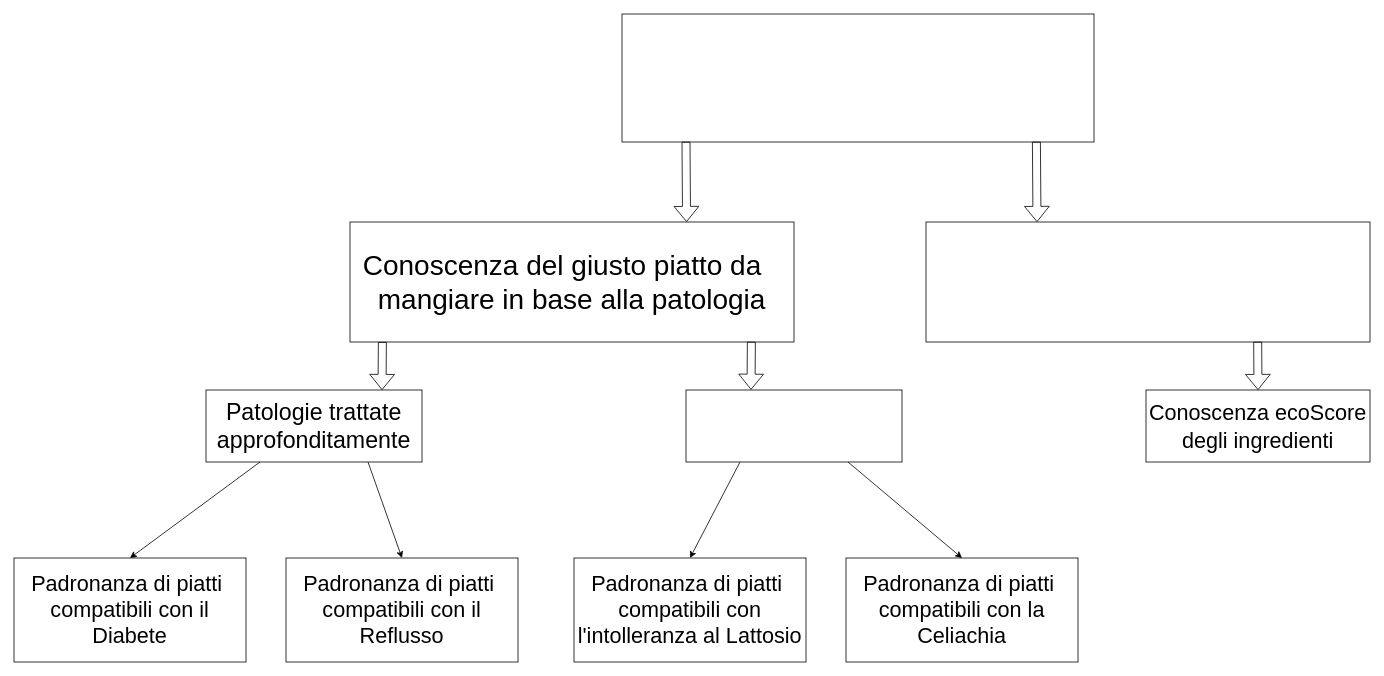
This 1384x676 diagram has some shape labels left out. Each missing label, with the centre of its shape:
Conoscenza degli ingredienti/piatti che inquinano di più: point (1147, 281)
Conoscenza delle piatti legati ad una buona alimentazione: point (857, 77)
Patologie trattate superficialmente: point (793, 425)
